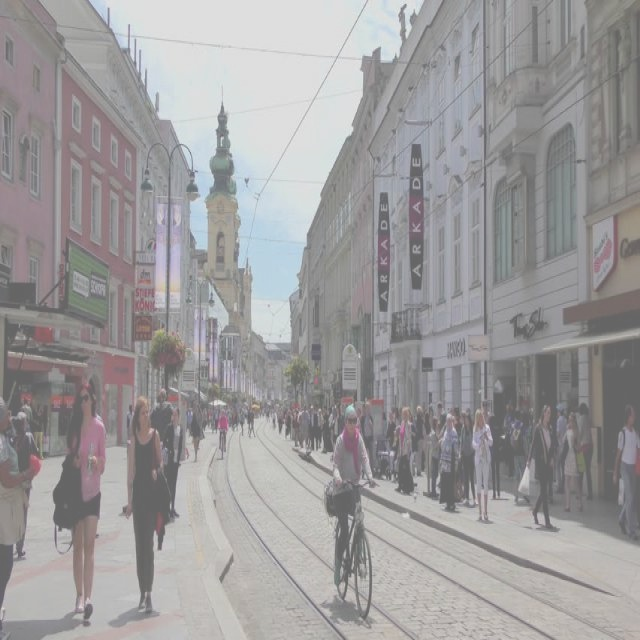pessoa: (50, 378, 108, 622), (124, 392, 174, 619), (0, 391, 44, 638), (330, 402, 378, 590), (8, 410, 42, 560), (524, 401, 558, 531), (612, 402, 640, 542), (469, 405, 494, 523), (161, 402, 185, 522), (436, 409, 461, 514), (507, 407, 532, 505), (561, 409, 583, 514), (458, 415, 480, 508), (576, 401, 594, 503), (394, 404, 414, 494), (570, 411, 586, 514), (551, 400, 567, 496), (488, 406, 503, 502), (359, 399, 376, 482), (438, 412, 457, 482), (154, 386, 175, 446), (428, 413, 440, 499), (250, 397, 292, 420), (31, 399, 46, 462), (402, 406, 414, 484), (503, 398, 514, 478), (414, 404, 424, 479), (188, 410, 202, 462), (216, 406, 230, 454), (391, 424, 402, 484), (223, 404, 248, 429), (422, 410, 432, 472), (194, 402, 206, 452), (307, 404, 319, 454), (452, 404, 464, 451), (157, 203, 181, 226), (300, 402, 310, 450), (386, 410, 398, 450), (330, 394, 339, 444), (378, 410, 388, 454), (90, 392, 104, 422), (436, 401, 448, 436), (327, 406, 335, 454), (546, 464, 556, 502), (108, 397, 117, 439), (21, 396, 34, 424), (322, 404, 329, 454), (464, 405, 474, 440), (317, 406, 325, 449), (126, 402, 135, 438), (337, 401, 347, 432), (149, 392, 160, 419), (390, 402, 402, 426), (202, 406, 214, 429), (284, 409, 292, 442), (482, 398, 492, 424), (248, 407, 256, 437), (355, 405, 363, 435), (294, 410, 300, 448), (276, 408, 284, 436), (185, 406, 194, 430), (634, 446, 640, 478), (290, 410, 296, 440), (330, 420, 336, 450), (246, 406, 252, 434), (458, 408, 466, 427), (428, 406, 434, 429), (271, 410, 277, 430), (214, 406, 218, 434), (290, 404, 304, 412), (306, 406, 312, 422), (186, 446, 190, 458), (314, 408, 318, 413)
